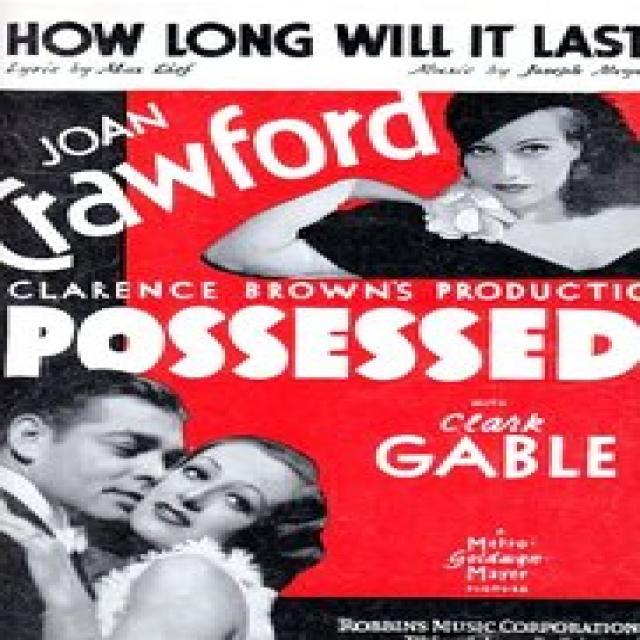movie-judul: (0, 296, 640, 389)
picture: (12, 371, 336, 640), (201, 87, 640, 280)
